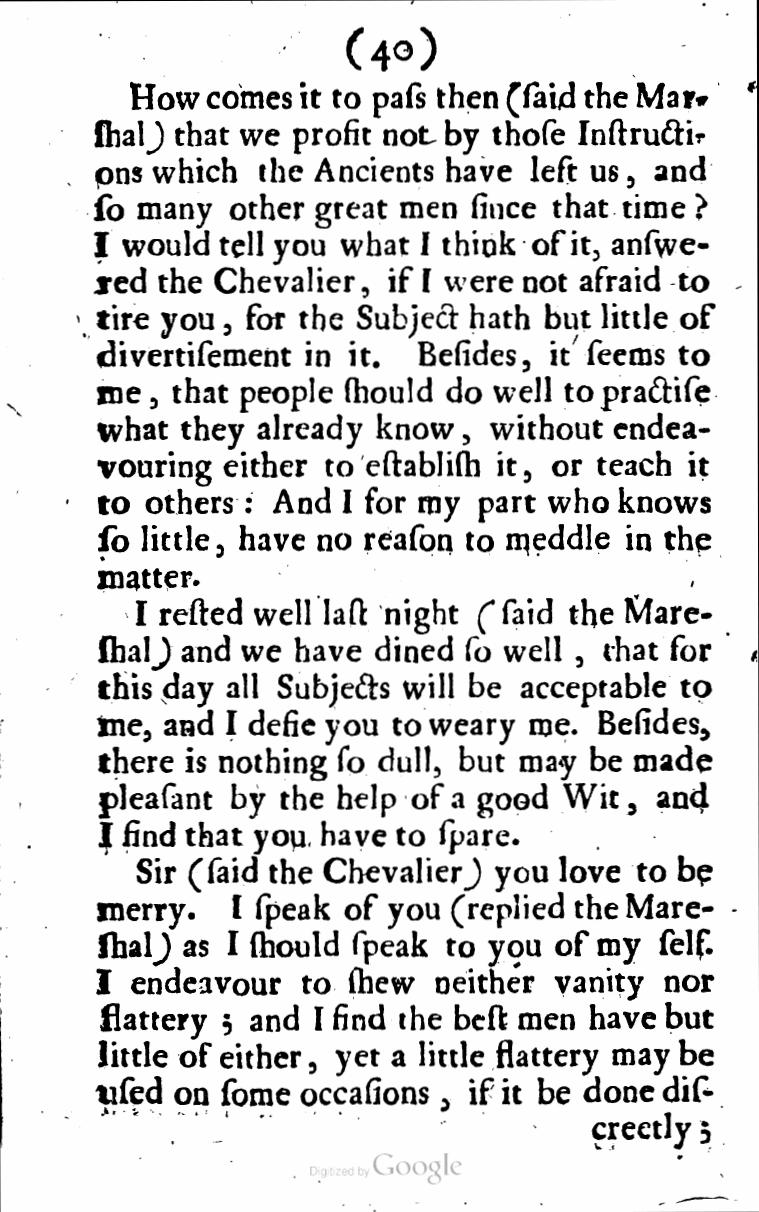catchword: (588, 1107, 713, 1150)
full_p: (90, 75, 715, 592), (93, 595, 715, 855)
page_num: (370, 33, 415, 73)
top_p: (95, 853, 718, 1110)
